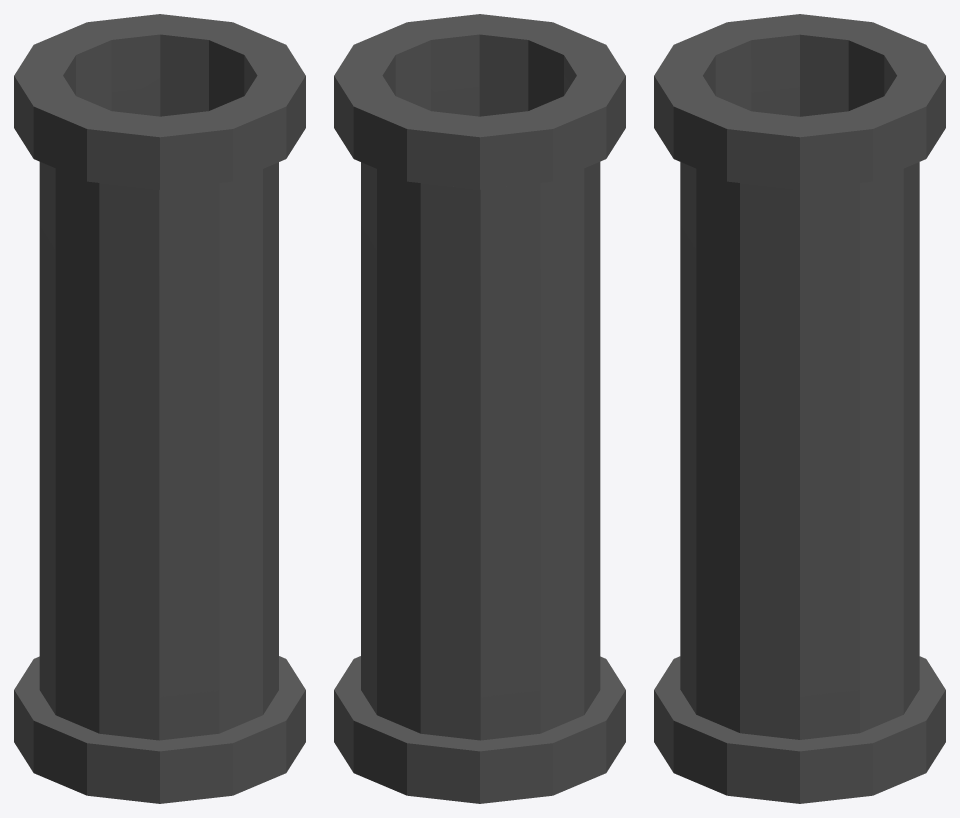
File: piipe2.fbx
The picture shows the model from 3 angles, left to right: view 1: azimuth 30°, elevation 25°; view 2: azimuth 150°, elevation 25°; view 3: azimuth 270°, elevation 25°; orthographic projection.
Parts seen in each view (by area): view 1: Cylinder.003; view 2: Cylinder.003; view 3: Cylinder.003.
Boxes of the visible parts, x1,y1,x2,y2 form: Cylinder.003: [14, 14, 305, 803]; Cylinder.003: [334, 14, 625, 803]; Cylinder.003: [654, 14, 945, 803].
Bounding box in the file's own units: 90 × 227 × 90.
